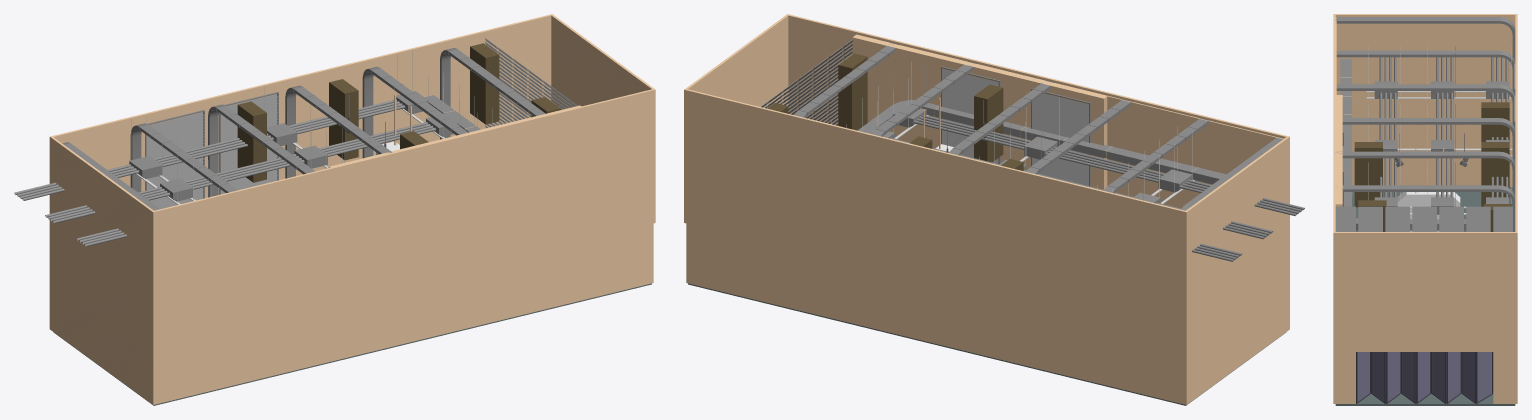
The model's file is Corporation_room.fbx.
The picture shows the model from 3 angles, left to right: view 1: azimuth 30°, elevation 25°; view 2: azimuth 150°, elevation 25°; view 3: azimuth 270°, elevation 25°; orthographic projection. The views are drawn at different scales.
Visible parts, largest first — view 1: Box19, Rectangle32.003, Line645, Rectangle32.002, Box49, Box31, Box30, Line244.001, Line375, Line246, Line374, Line245 (+7 smaller); view 2: Box19, Line07, Rectangle32.001, Line645, Rectangle32, Box50, Box38, Line244.002, Line244.005, Line244.008, Line374, Line375 (+5 smaller); view 3: Box19, Box33, Line645, Line246, Line375, Line418, Box38, Line245, Line374, Line247, Line07, Box31 (+16 smaller).
Part boxes in pixels (bbox=[...]): Box19: bbox=[49, 14, 655, 405]; Rectangle32.003: bbox=[145, 110, 204, 208]; Line645: bbox=[485, 38, 577, 127]; Rectangle32.002: bbox=[219, 92, 278, 194]; Box49: bbox=[470, 43, 499, 124]; Box31: bbox=[329, 79, 358, 160]; Box30: bbox=[237, 101, 266, 182]; Line244.001: bbox=[184, 145, 327, 189]; Line375: bbox=[130, 123, 237, 192]; Line246: bbox=[362, 66, 467, 135]; Line374: bbox=[208, 104, 314, 174]; Line245: bbox=[285, 85, 392, 154]; Box19: bbox=[684, 14, 1289, 405]; Line07: bbox=[858, 100, 1225, 184]; Rectangle32.001: bbox=[1031, 88, 1090, 186]; Line645: bbox=[760, 39, 852, 125]; Rectangle32: bbox=[941, 66, 1000, 164]; Box50: bbox=[838, 53, 867, 130]; Box38: bbox=[974, 84, 1003, 162]; Line244.002: bbox=[1024, 136, 1165, 182]; Line244.005: bbox=[892, 104, 1030, 149]; Line244.008: bbox=[1158, 169, 1304, 216]; Line374: bbox=[1026, 100, 1131, 174]; Line375: bbox=[1104, 119, 1208, 193]; Box19: bbox=[1333, 14, 1517, 405]; Box33: bbox=[1356, 352, 1493, 403]; Line645: bbox=[1335, 206, 1512, 231]; Line246: bbox=[1335, 151, 1515, 186]; Line375: bbox=[1336, 50, 1515, 85]; Line418: bbox=[1335, 17, 1515, 51]; Box38: bbox=[1354, 142, 1382, 207]; Line245: bbox=[1342, 118, 1515, 152]; Line374: bbox=[1336, 84, 1514, 119]; Line247: bbox=[1342, 185, 1515, 220]; Line07: bbox=[1340, 59, 1466, 230]; Box31: bbox=[1481, 142, 1509, 206].
Size of the model in its own units: 23.91 by 8.27 by 7.87.
